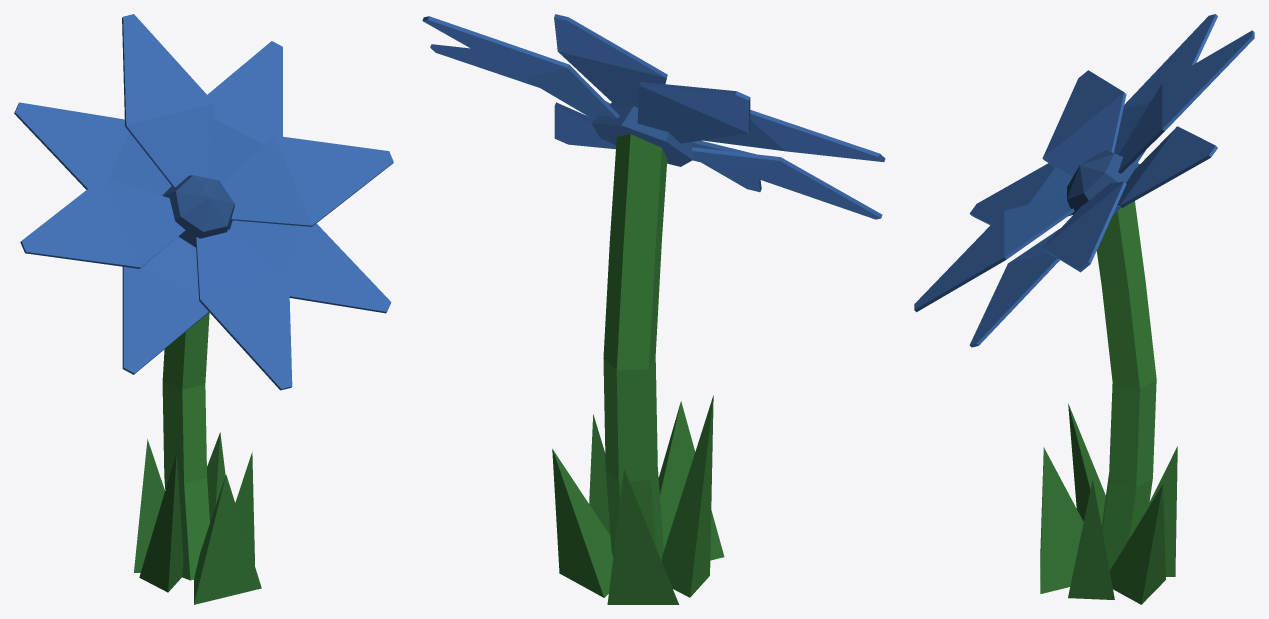
File: Flower_1_Blue.fbx
The picture shows the model from 3 angles, left to right: view 1: azimuth 30°, elevation 25°; view 2: azimuth 150°, elevation 25°; view 3: azimuth 270°, elevation 25°; orthographic projection. The views are drawn at different scales.
Parts seen in each view (by area): view 1: Flower_1_Blue; view 2: Flower_1_Blue; view 3: Flower_1_Blue.
Boxes of the visible parts, x1,y1,x2,y2 form: Flower_1_Blue: (14, 14, 393, 604); Flower_1_Blue: (422, 14, 885, 604); Flower_1_Blue: (914, 14, 1254, 604).
Bounding box in the file's own units: 18.76 × 24.83 × 14.08.
